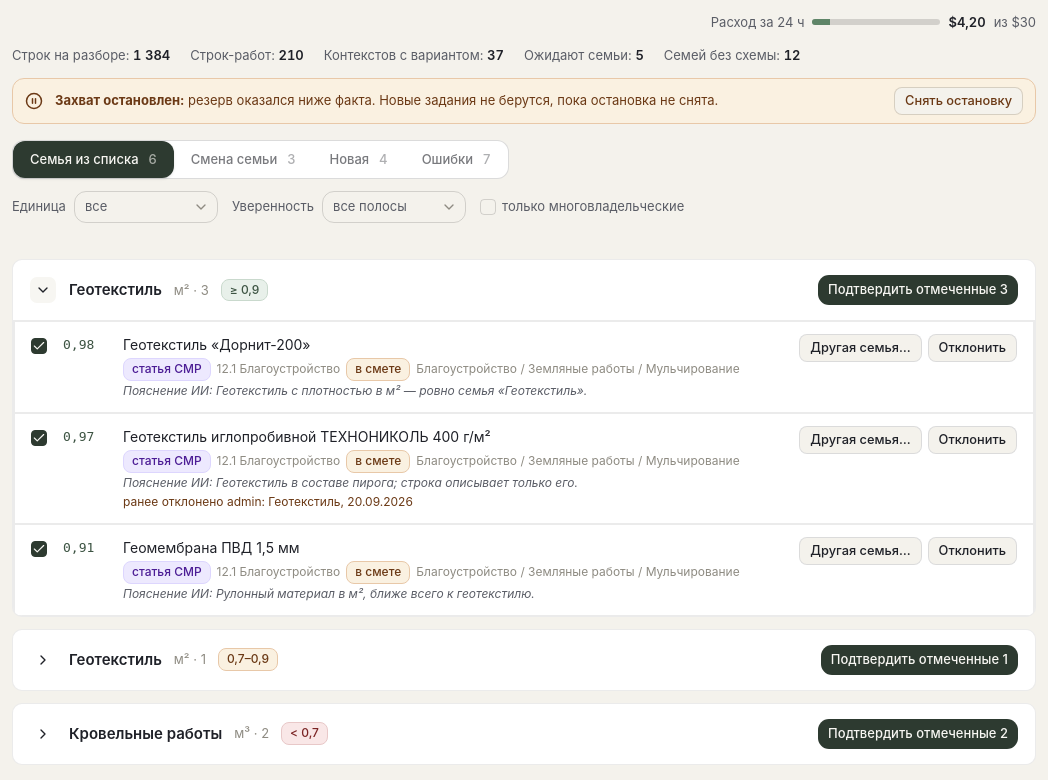
Test: SuggestionsTab — решения обновляют очередь › «Снять остановку»: плашка остановки исчезает после перечитывания сводки
Click the button "Снять остановку". click: (959, 101)
box: left=894, top=87, right=1023, bottom=115
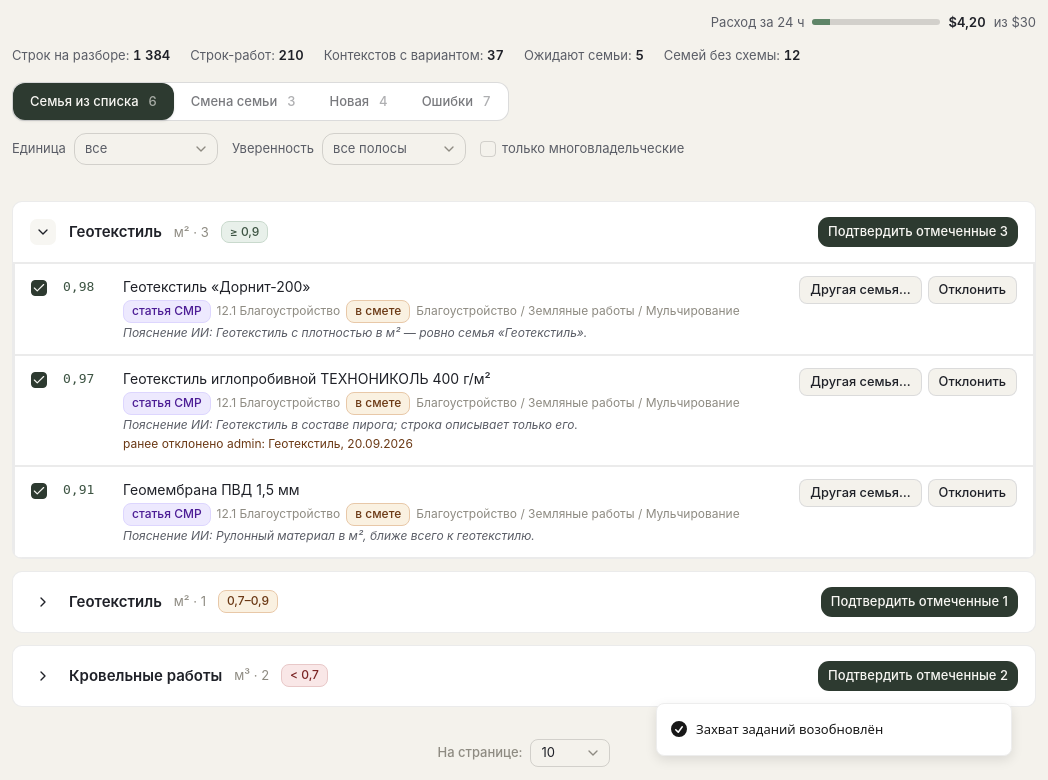
Expected: the message with test id "banner-paused" is gone
